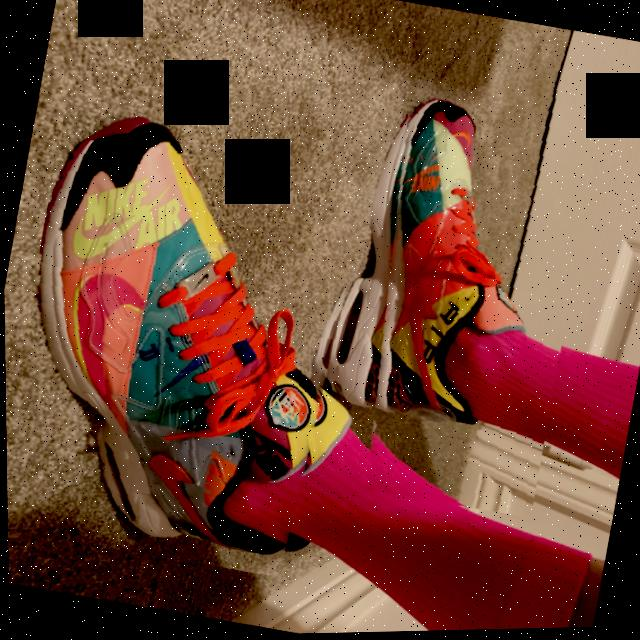shoe: (1, 57, 391, 588), (331, 56, 612, 524)
